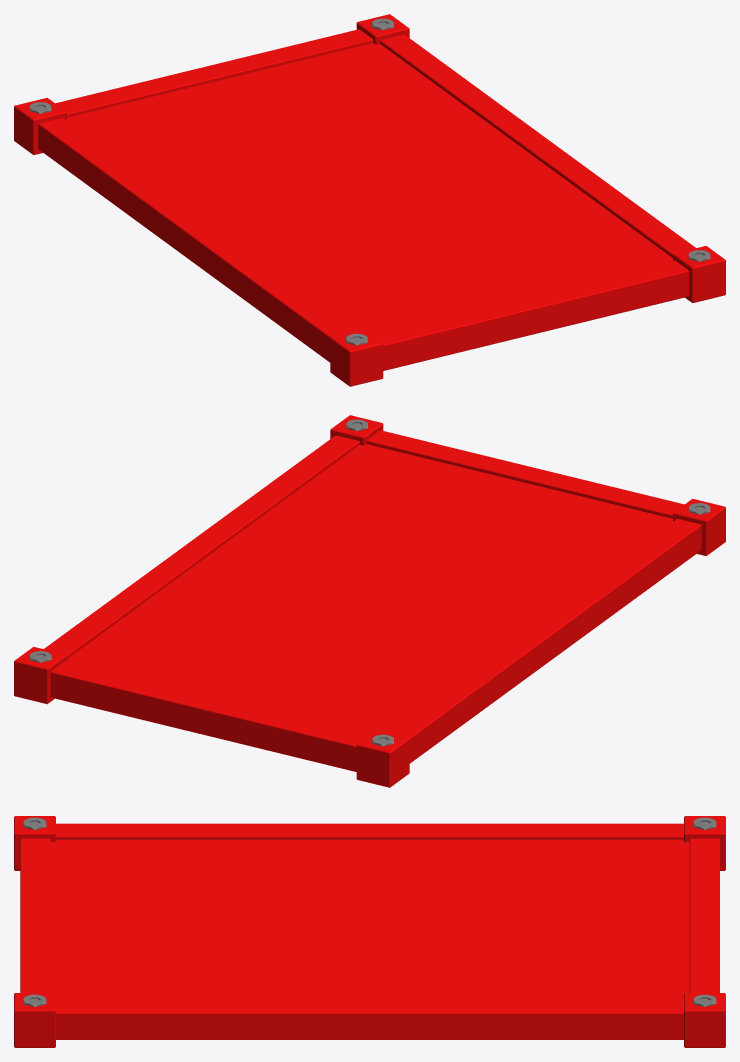
Rendered from DoubleFramedPlatformRed.fbx.
3 views of the same model, one above another, from view 1: azimuth 30°, elevation 25°; view 2: azimuth 150°, elevation 25°; view 3: azimuth 270°, elevation 25° (orthographic). The views are drawn at different scales.
Visible parts, largest first — view 1: Cube, Cube.001; view 2: Cube, Cube.001; view 3: Cube, Cube.001.
Part boxes in pixels (x1,y1,x2,y2): Cube: [14, 14, 725, 386]; Cube.001: [29, 18, 710, 345]; Cube: [14, 415, 725, 787]; Cube.001: [29, 419, 710, 746]; Cube: [14, 816, 725, 1047]; Cube.001: [23, 817, 716, 1006].
Bounding box in the file's own units: 11 × 1.05 × 17.
